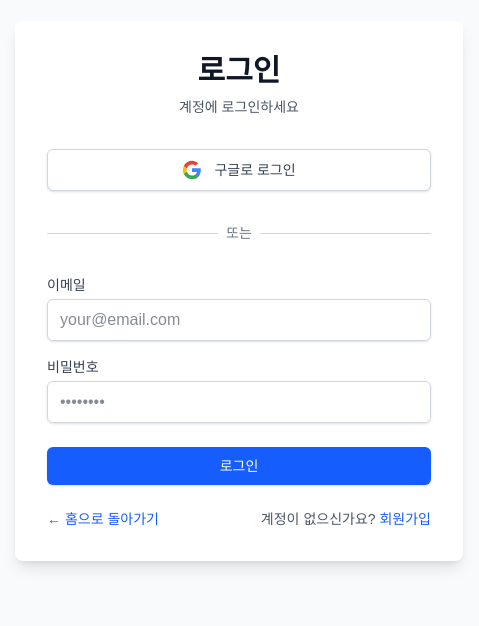
it: LoginPage auth return › 로그인 제한은 서버의 고정된 generic 메시지만 표시한다
The width and height of the screenshot is (479, 626).
In the field labelled "이메일": (239, 320) 47,299 -> 431,341, type "member@example.com"
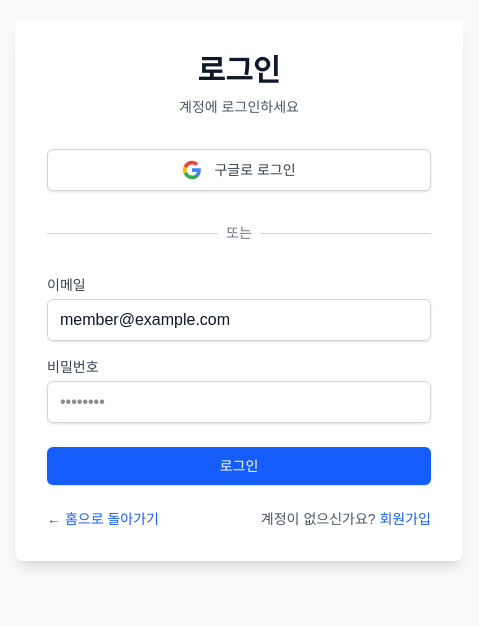
In the password field labelled "비밀번호": (239, 402) 47,381 -> 431,423, type "password"
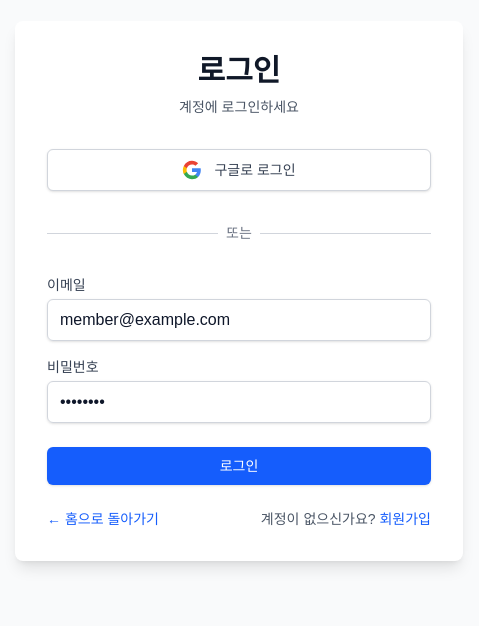
Click the button "로그인": (239, 466) 47,447 -> 431,485
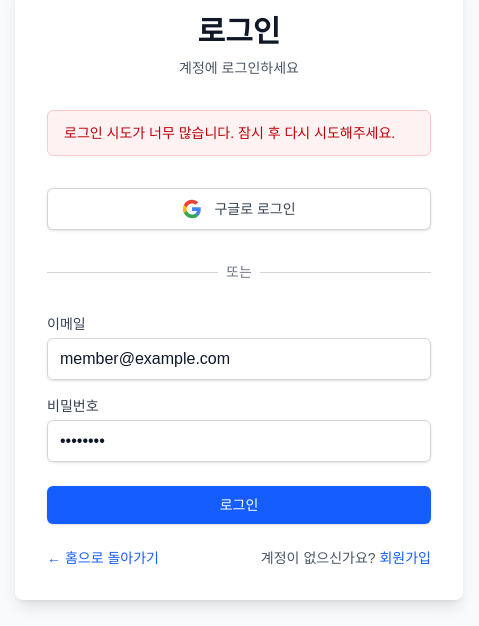
Expected: the text "로그인 시도가 너무 많습니다. 잠시 후 다시 시도해주세요." is shown, 47,110 -> 431,156
